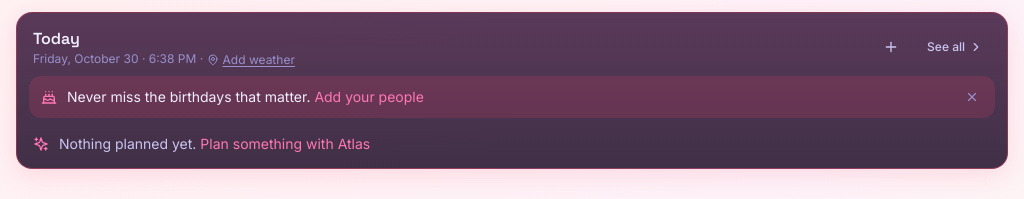
it: TodayCard › asks once for their people, and remembers "not now"
This screenshot has width=1024, height=199.
Later steps or results of the test are not shown.
Expected: the text "Add your people" is shown, x1=314 y1=88 x2=424 y2=105
Step 1. Click the button named "Not now" → (972, 97), box x1=961 y1=86 x2=983 y2=108
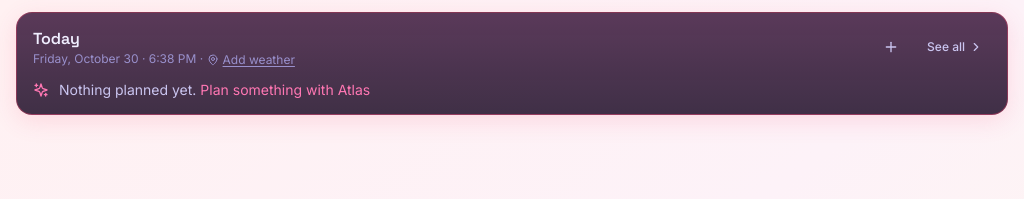
Expected: the button "Add your people" is gone
